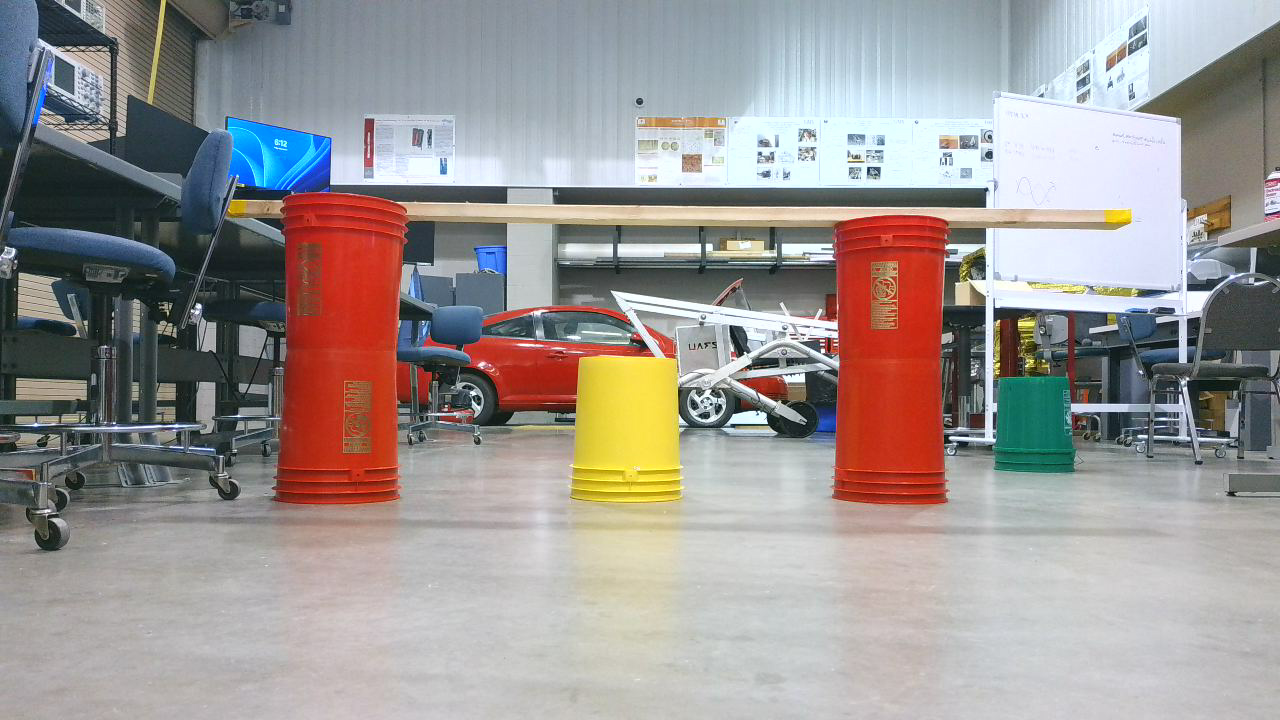green_bucket_barrier: (992, 377, 1088, 483)
red_bucket_arch: (276, 190, 964, 522)
yellow_bucket: (567, 354, 699, 510)
